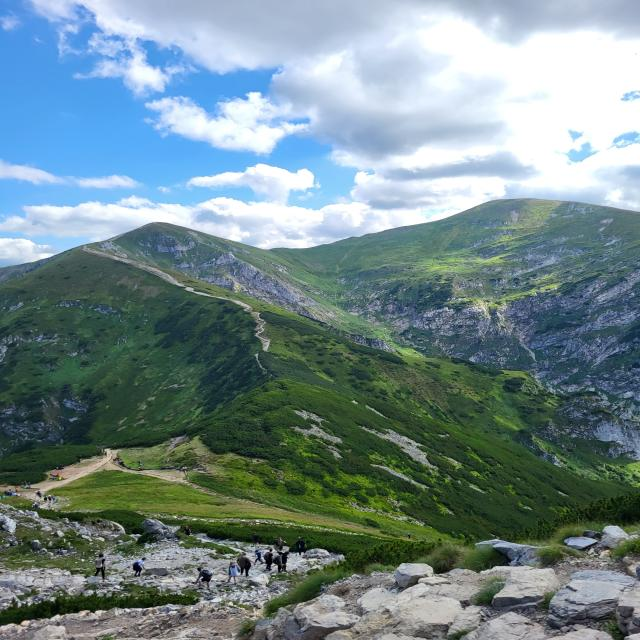Kopa Kondracka: (0, 140, 325, 308)
Malolaczniak: (347, 121, 640, 280)
